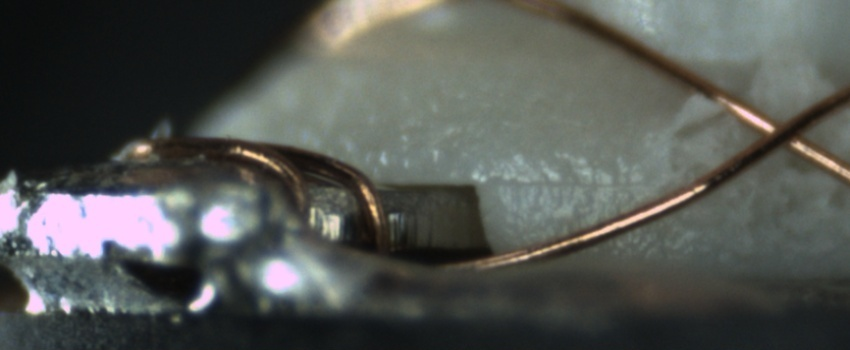CL: (736, 94, 826, 164)
DL: (474, 151, 678, 204)
TE: (127, 131, 396, 256)
